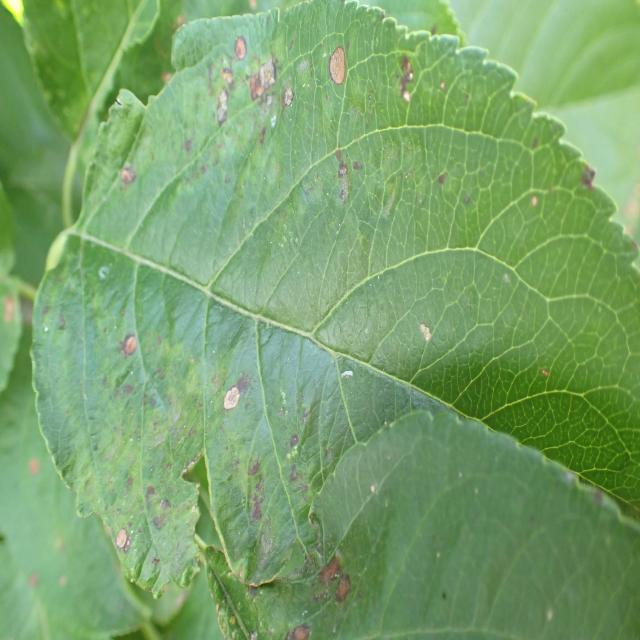frog-eye-leaf-spot: (30, 0, 640, 603), (201, 409, 640, 639)
